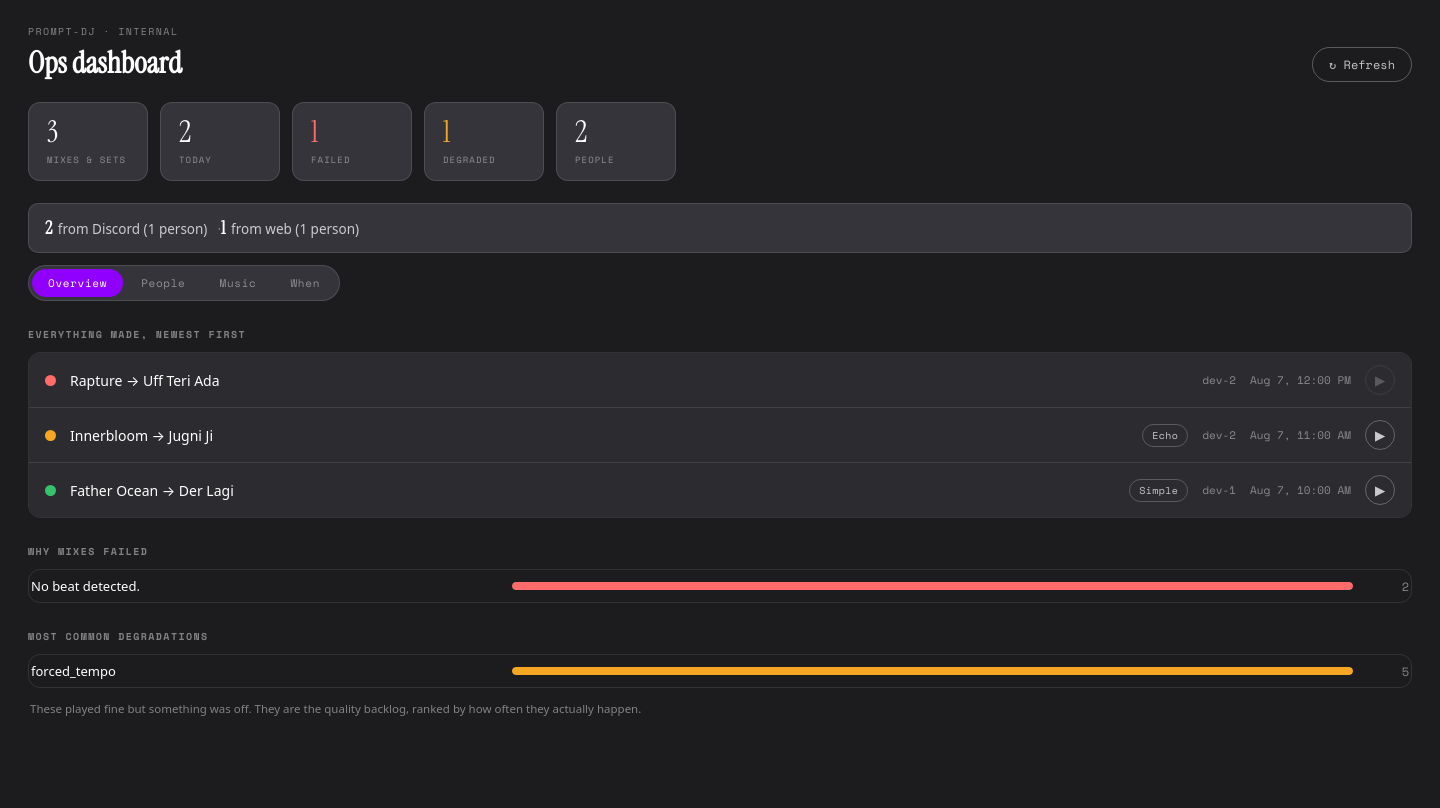
Scenario: expanding a degraded row shows the anomaly detail and suggested action
Click the button with test id "event-row" that starts with "Innerbloom → Jugni Ji" at (142, 435), box [45,424,1351,446]
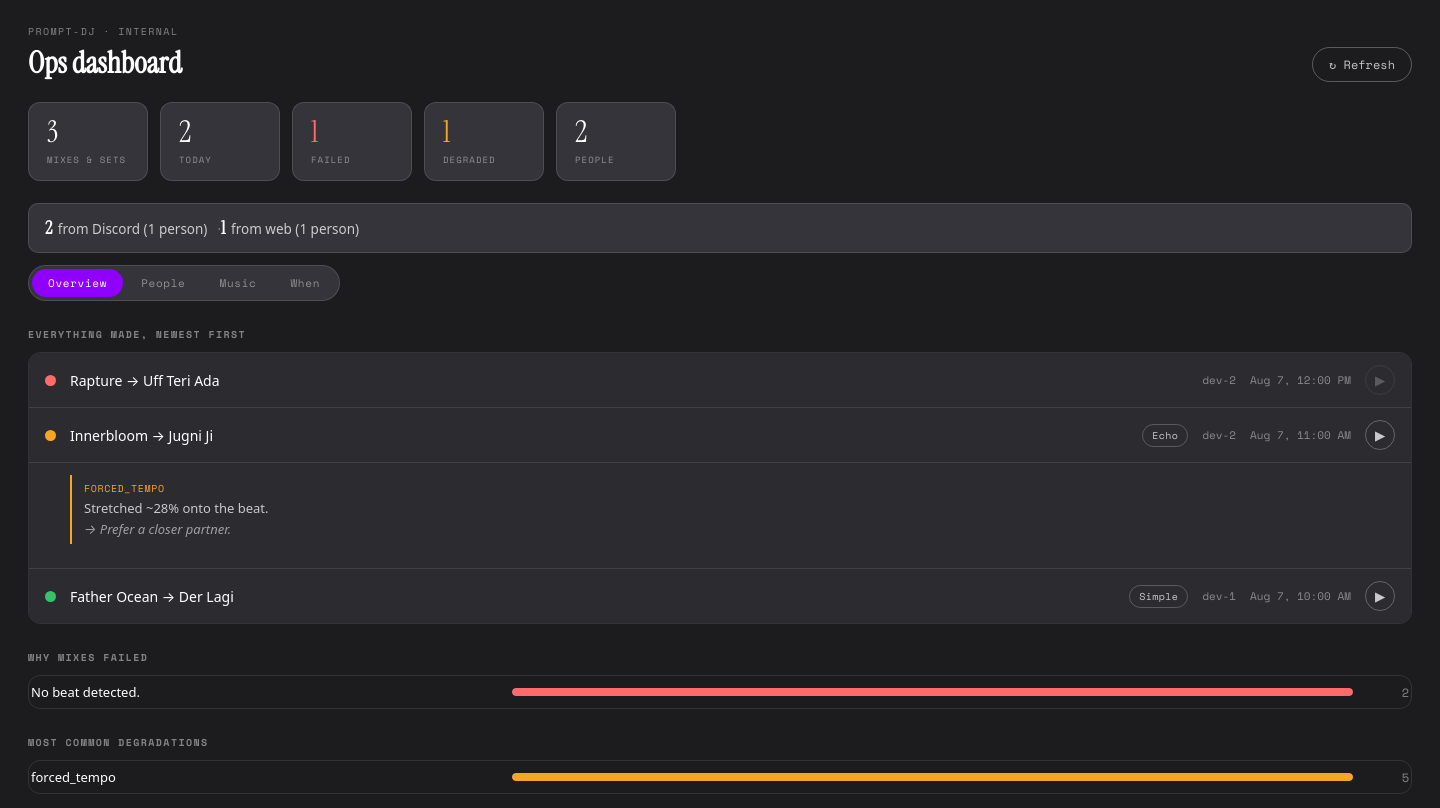
expect the text "Stretched ~28% onto the beat." is shown: met, box [84,499,268,517]
expect the text "→ Prefer a closer partner." is shown: met, box [84,520,231,538]
